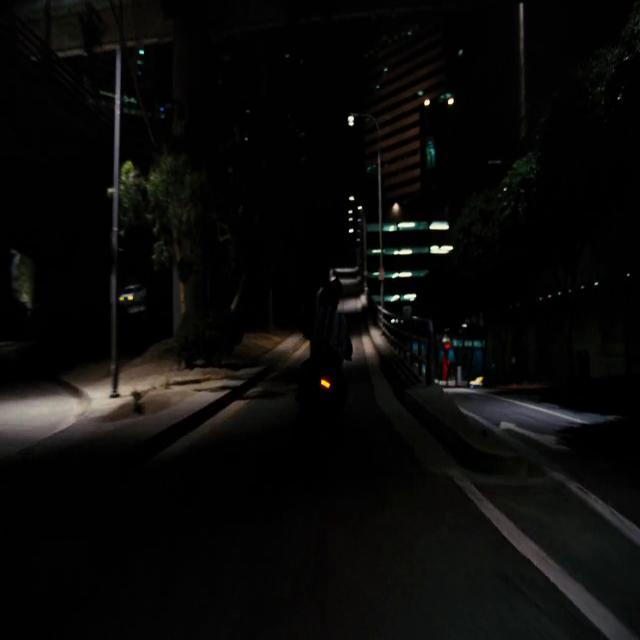Motorbike: (294, 268, 370, 444)
